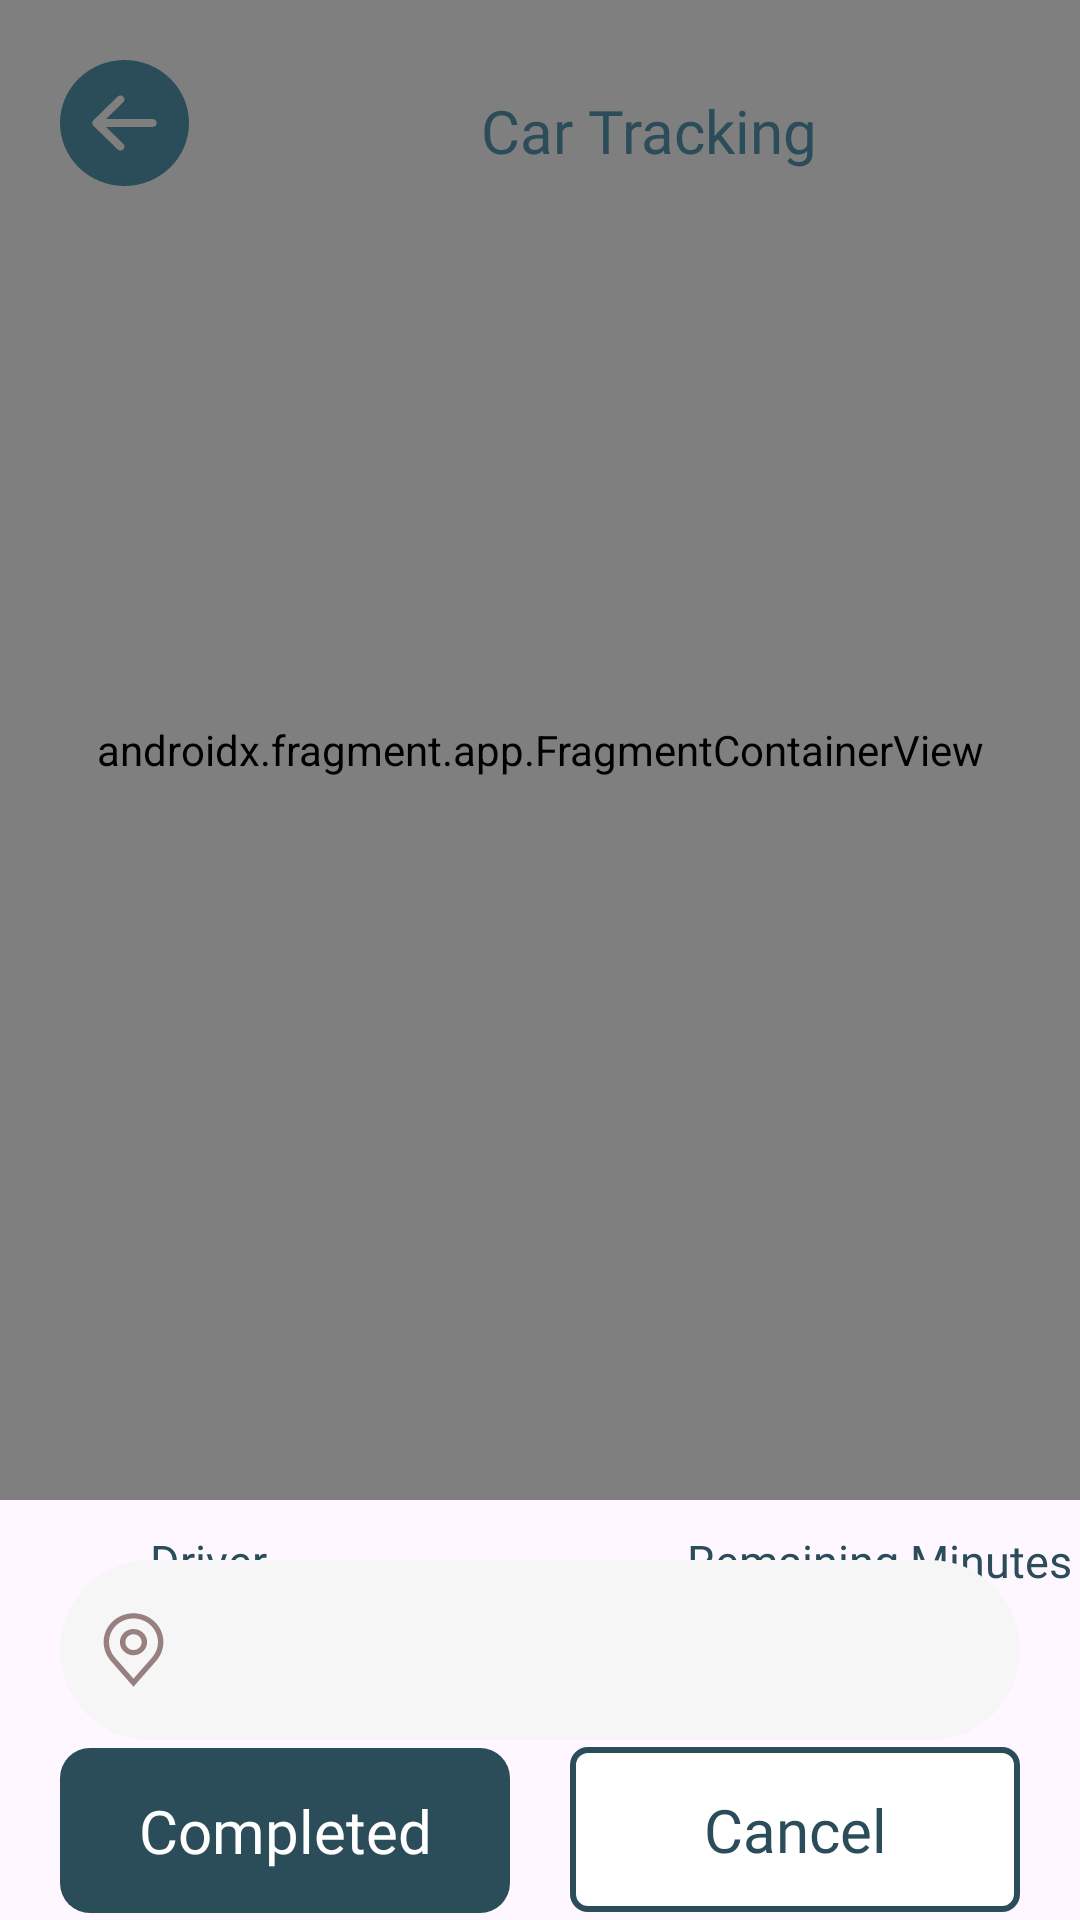

Icons on this 1080px×1920px Android screen, each with its box as (x1, y1, x2, y2):
location track: (103, 1613, 164, 1687)
